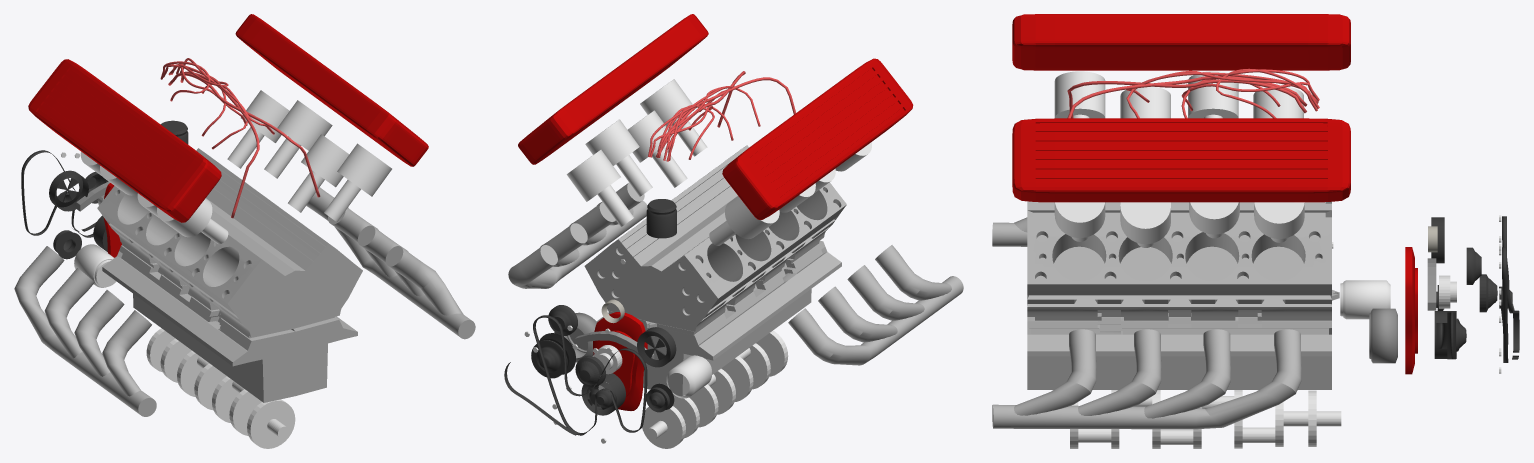
Rendered from Motor-AR.gltf.
3 renders of one model, left to right at view 1: azimuth 30°, elevation 25°; view 2: azimuth 150°, elevation 25°; view 3: azimuth 270°, elevation 25°, orthographic. The views are drawn at different scales.
Parts seen in each view (by area): view 1: Cylinder.009, Cube.002, Cylinder.008, Cube.003, Cylinder.028, Cylinder.037, Cylinder.016, Cylinder.033, Cylinder.036, Cylinder.034, Cylinder.035, Cylinder.032 (+4 smaller); view 2: Cylinder.009, Cube.002, Cylinder.008, Cube.003, Cylinder.028, Cylinder.037, Cylinder.016, Cube, Cylinder.035, Cylinder.036, Cylinder.034, Cylinder.033 (+13 smaller); view 3: Cylinder.009, Cube.003, Cube.002, Cylinder.037, Cylinder.028, Cylinder.016, Cylinder.032, Cylinder.034, Cylinder.013, Cylinder.029, Cylinder.035, Cylinder.033 (+11 smaller).
Part boxes in pixels (left/top/right/bottom): Cylinder.009: left=97, top=148, right=362, bottom=402; Cube.002: left=28, top=59, right=221, bottom=222; Cylinder.008: left=14, top=246, right=156, bottom=416; Cube.003: left=235, top=14, right=428, bottom=166; Cylinder.028: left=146, top=328, right=295, bottom=448; Cylinder.037: left=306, top=187, right=475, bottom=339; Cylinder.016: left=160, top=58, right=320, bottom=218; Cylinder.033: left=324, top=143, right=391, bottom=221; Cylinder.036: left=264, top=100, right=332, bottom=178; Cylinder.034: left=288, top=134, right=349, bottom=212; Cylinder.035: left=227, top=90, right=289, bottom=168; Cylinder.032: left=157, top=198, right=228, bottom=244; Cylinder.009: left=584, top=145, right=846, bottom=396; Cube.002: left=722, top=58, right=913, bottom=219; Cylinder.008: left=788, top=245, right=963, bottom=365; Cube.003: left=518, top=14, right=708, bottom=164; Cylinder.028: left=641, top=330, right=788, bottom=448; Cylinder.037: left=508, top=183, right=647, bottom=288; Cylinder.016: left=648, top=71, right=795, bottom=161; Cube: left=593, top=312, right=647, bottom=410; Cylinder.035: left=566, top=149, right=633, bottom=226; Cylinder.036: left=585, top=119, right=652, bottom=196; Cylinder.034: left=628, top=110, right=687, bottom=187; Cylinder.033: left=640, top=79, right=707, bottom=156; Cylinder.009: left=1027, top=201, right=1339, bottom=389; Cube.003: left=1012, top=118, right=1350, bottom=202; Cube.002: left=1012, top=14, right=1350, bottom=70; Cylinder.037: left=992, top=329, right=1301, bottom=429; Cylinder.028: left=1070, top=390, right=1341, bottom=448; Cylinder.016: left=1067, top=68, right=1319, bottom=118; Cylinder.032: left=1054, top=71, right=1105, bottom=118; Cylinder.034: left=1120, top=202, right=1170, bottom=247; Cylinder.013: left=1340, top=280, right=1390, bottom=319; Cylinder.029: left=1188, top=71, right=1238, bottom=118; Cylinder.035: left=1254, top=202, right=1304, bottom=242; Cylinder.033: left=1054, top=202, right=1105, bottom=241.
Bounding box in the file's own units: 0.1375 × 0.1267 × 0.1588.
